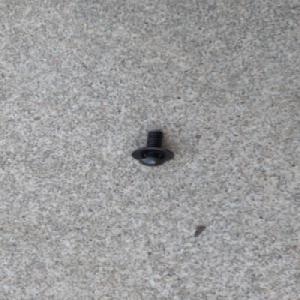BoltWasher: (130, 129, 175, 167)
